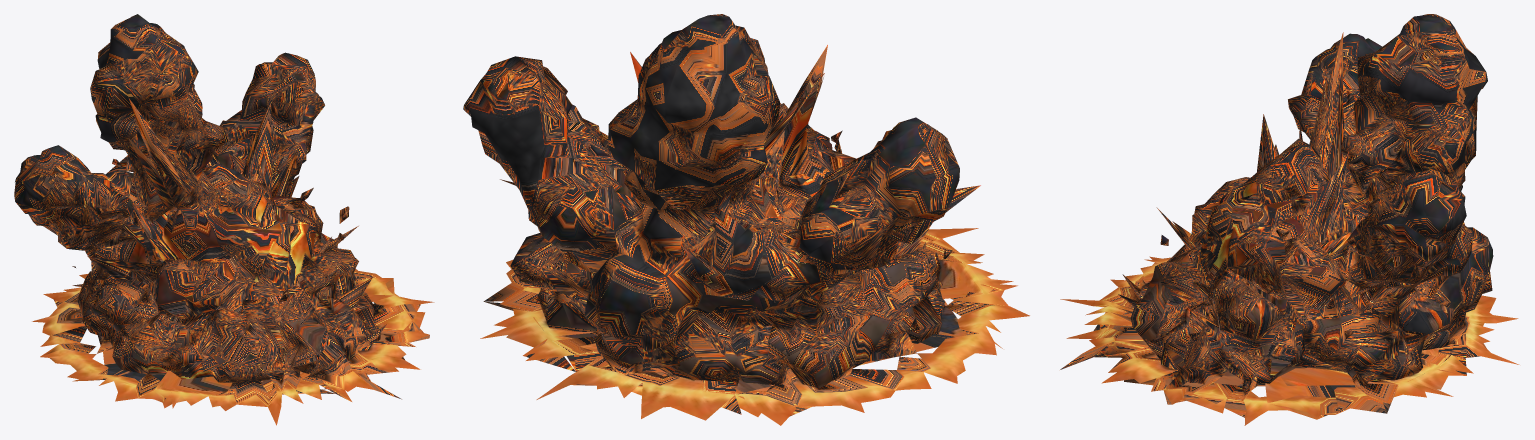
Rendered from blast.glb.
The picture shows the model from 3 angles, left to right: view 1: azimuth 30°, elevation 25°; view 2: azimuth 150°, elevation 25°; view 3: azimuth 270°, elevation 25°; orthographic projection. The views are drawn at different scales.
Size of the model in its own units: 0.9453 by 0.6904 by 0.9604.
Materials: 1 (1 with a texture image).
